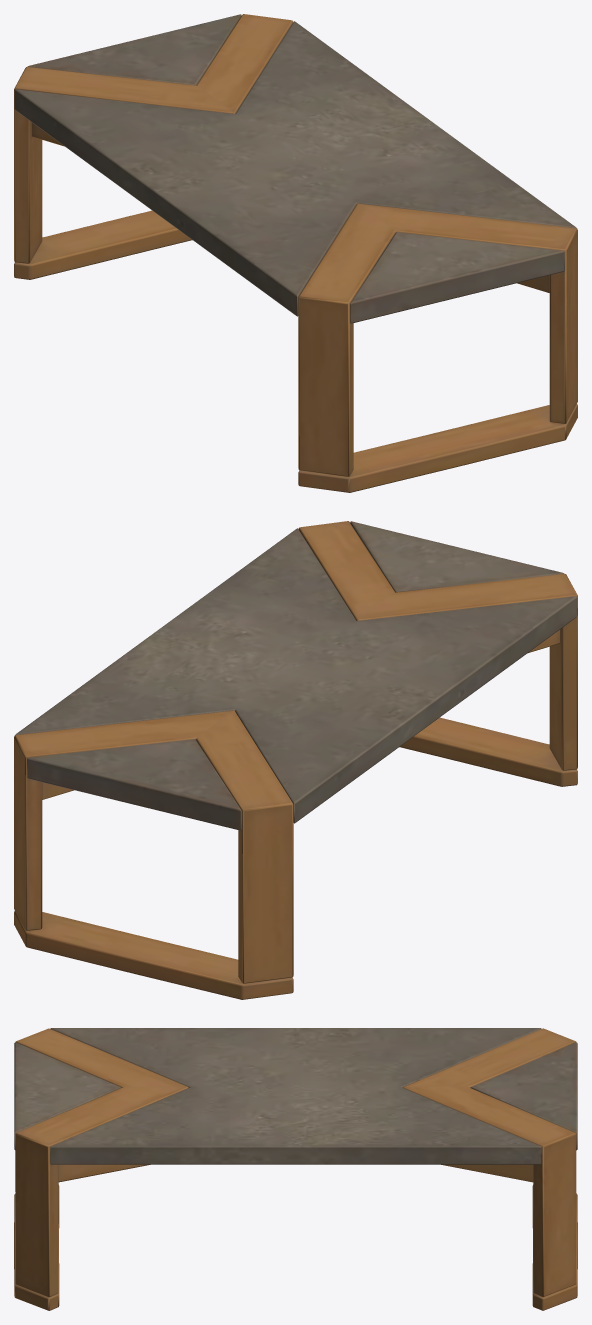
The model's file is modern_coffee_table_01.glb.
3 views of the same model, one above another, from view 1: azimuth 30°, elevation 25°; view 2: azimuth 150°, elevation 25°; view 3: azimuth 270°, elevation 25° (orthographic). The views are drawn at different scales.
Parts seen in each view (by area): view 1: modern_coffee_table_01; view 2: modern_coffee_table_01; view 3: modern_coffee_table_01.
Boxes of the visible parts, x1,y1,x2,y2 form: modern_coffee_table_01: (14, 14, 577, 492); modern_coffee_table_01: (14, 521, 577, 999); modern_coffee_table_01: (14, 1028, 577, 1310).
Size of the model in its own units: 0.5999 by 0.39 by 1.2.
Materials: 1 (1 with a texture image).
